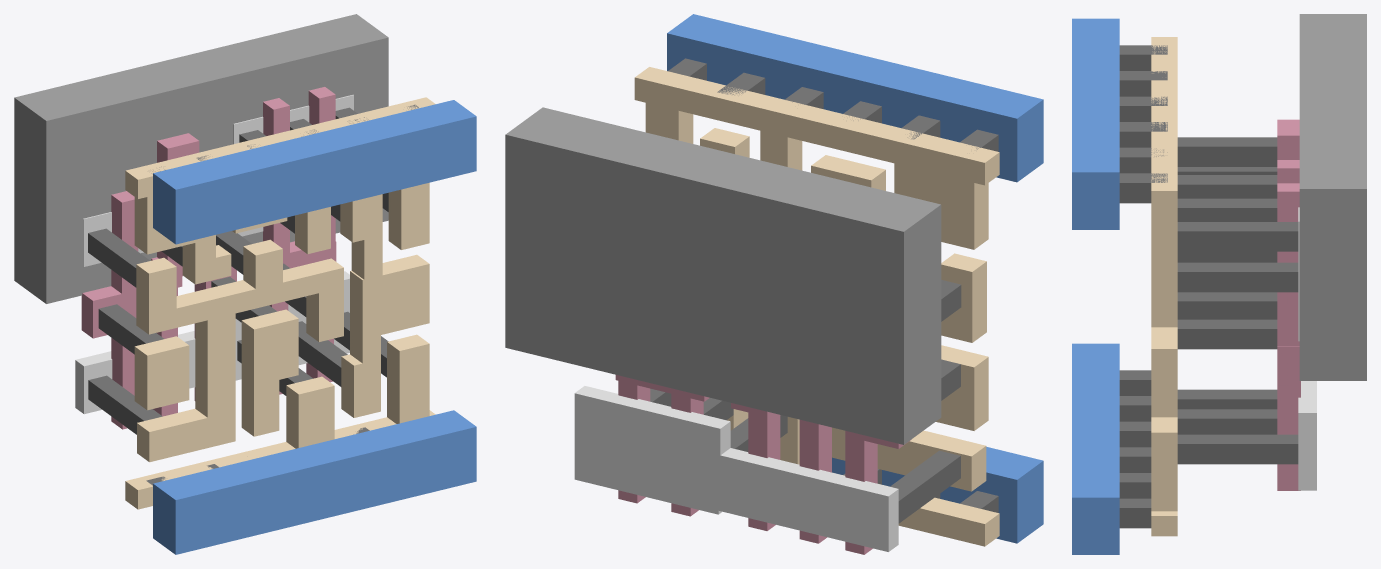
The model's file is sky130_fd_sc_hd__and3_2.gds.gltf.
3 renders of one model, left to right at view 1: azimuth 30°, elevation 25°; view 2: azimuth 150°, elevation 25°; view 3: azimuth 270°, elevation 25°, orthographic. The views are drawn at different scales.
Visible parts, largest first — view 1: sky130_fd_sc_hd__and3_2_li1, sky130_fd_sc_hd__and3_2_met1, sky130_fd_sc_hd__and3_2_nwell, sky130_fd_sc_hd__and3_2_licon, sky130_fd_sc_hd__and3_2_poly, sky130_fd_sc_hd__and3_2_diff; view 2: sky130_fd_sc_hd__and3_2_nwell, sky130_fd_sc_hd__and3_2_li1, sky130_fd_sc_hd__and3_2_met1, sky130_fd_sc_hd__and3_2_diff, sky130_fd_sc_hd__and3_2_poly, sky130_fd_sc_hd__and3_2_licon, sky130_fd_sc_hd__and3_2_mcon; view 3: sky130_fd_sc_hd__and3_2_licon, sky130_fd_sc_hd__and3_2_nwell, sky130_fd_sc_hd__and3_2_met1, sky130_fd_sc_hd__and3_2_li1, sky130_fd_sc_hd__and3_2_mcon, sky130_fd_sc_hd__and3_2_poly, sky130_fd_sc_hd__and3_2_diff.
Boxes of the visible parts, bbox=[...] form: sky130_fd_sc_hd__and3_2_li1: bbox=[125, 97, 435, 509]; sky130_fd_sc_hd__and3_2_met1: bbox=[153, 100, 476, 554]; sky130_fd_sc_hd__and3_2_nwell: bbox=[14, 14, 388, 303]; sky130_fd_sc_hd__and3_2_licon: bbox=[88, 107, 388, 434]; sky130_fd_sc_hd__and3_2_poly: bbox=[81, 87, 336, 429]; sky130_fd_sc_hd__and3_2_diff: bbox=[75, 94, 353, 414]; sky130_fd_sc_hd__and3_2_nwell: bbox=[505, 107, 941, 444]; sky130_fd_sc_hd__and3_2_li1: bbox=[634, 67, 999, 546]; sky130_fd_sc_hd__and3_2_met1: bbox=[667, 14, 1043, 543]; sky130_fd_sc_hd__and3_2_diff: bbox=[574, 386, 898, 551]; sky130_fd_sc_hd__and3_2_poly: bbox=[615, 375, 911, 554]; sky130_fd_sc_hd__and3_2_licon: bbox=[650, 280, 961, 523]; sky130_fd_sc_hd__and3_2_mcon: bbox=[668, 58, 998, 512]; sky130_fd_sc_hd__and3_2_licon: bbox=[1177, 137, 1298, 464]; sky130_fd_sc_hd__and3_2_nwell: bbox=[1299, 14, 1366, 380]; sky130_fd_sc_hd__and3_2_met1: bbox=[1072, 18, 1119, 554]; sky130_fd_sc_hd__and3_2_li1: bbox=[1151, 37, 1177, 536]; sky130_fd_sc_hd__and3_2_mcon: bbox=[1119, 45, 1167, 528]; sky130_fd_sc_hd__and3_2_poly: bbox=[1277, 119, 1300, 490]; sky130_fd_sc_hd__and3_2_diff: bbox=[1298, 207, 1316, 490].
Bounding box in the file's own units: 3.14 × 3.2 × 2.24.
